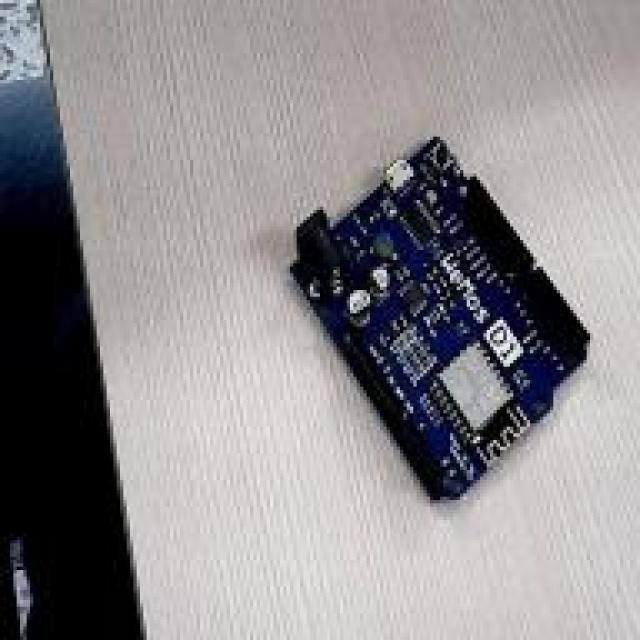Wemos: (291, 138, 588, 498)
